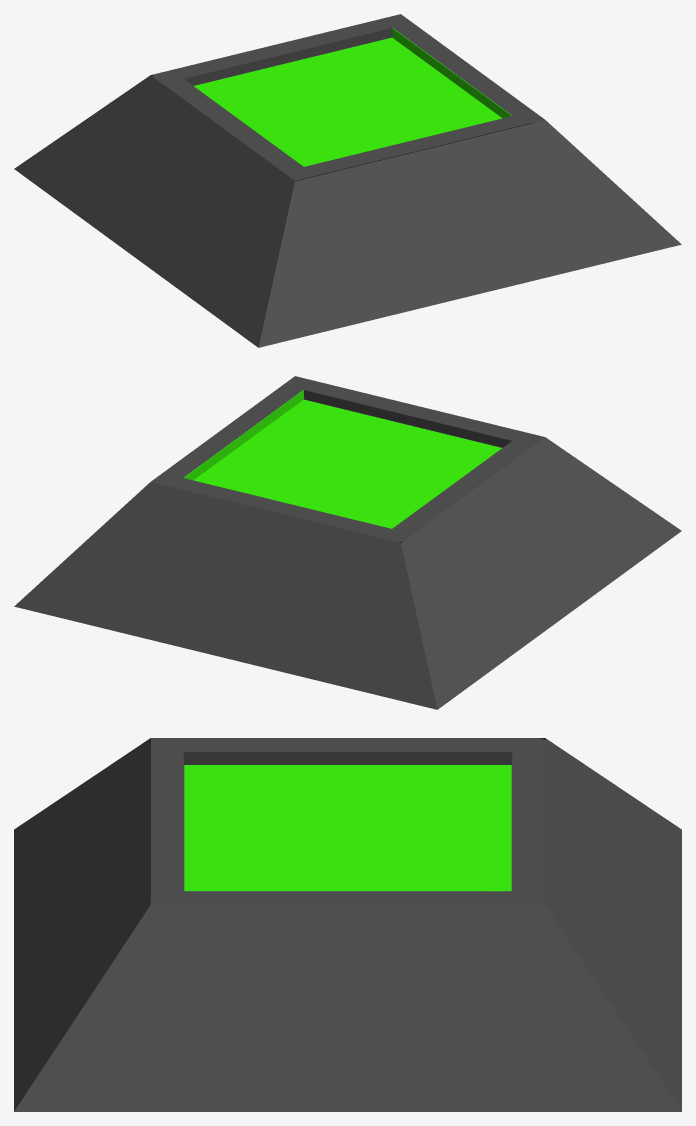
Rendered from FloorSwitchOn.fbx.
The picture shows the model from 3 angles, top to bottom: view 1: azimuth 30°, elevation 25°; view 2: azimuth 150°, elevation 25°; view 3: azimuth 270°, elevation 25°; orthographic projection. The views are drawn at different scales.
Visible parts, largest first — view 1: Cube; view 2: Cube; view 3: Cube.
Boxes of the visible parts, <box> form: Cube: <box>14,14,681,347</box>; Cube: <box>14,376,681,709</box>; Cube: <box>14,738,681,1111</box>.
Bounding box in the file's own units: 169 × 41.72 × 169.
